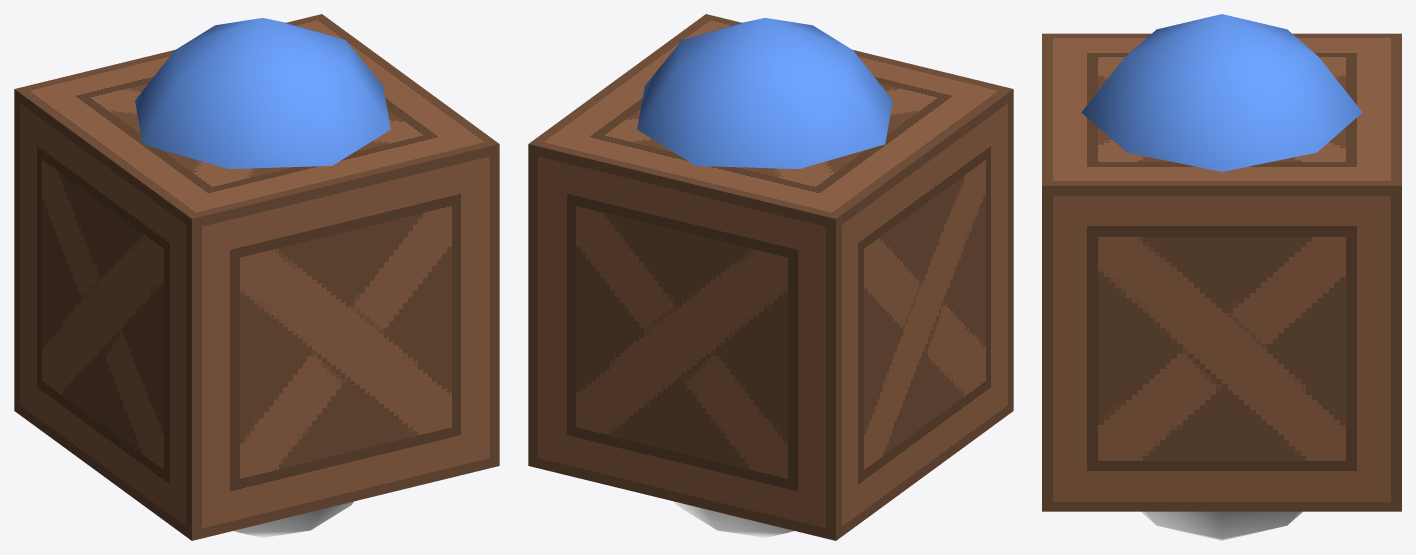
The picture shows the model from 3 angles, left to right: view 1: azimuth 30°, elevation 25°; view 2: azimuth 150°, elevation 25°; view 3: azimuth 270°, elevation 25°; orthographic projection.
Visible parts, largest first — view 1: Cube, Pill; view 2: Cube, Pill; view 3: Cube, Pill.
Boxes of the visible parts, bbox=[...] form: Cube: bbox=[14, 14, 499, 540]; Pill: bbox=[135, 18, 390, 537]; Cube: bbox=[528, 14, 1013, 540]; Pill: bbox=[637, 18, 892, 537]; Cube: bbox=[1042, 33, 1401, 511]; Pill: bbox=[1081, 14, 1362, 540].
Bounding box in the file's own units: 375 × 606 × 375.
